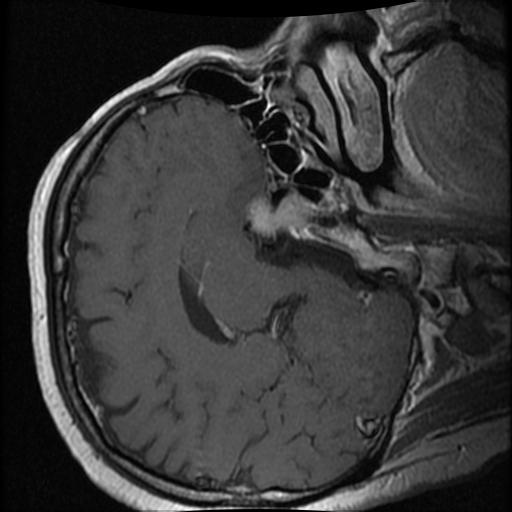pituitary tumour: (247, 194, 311, 235)
